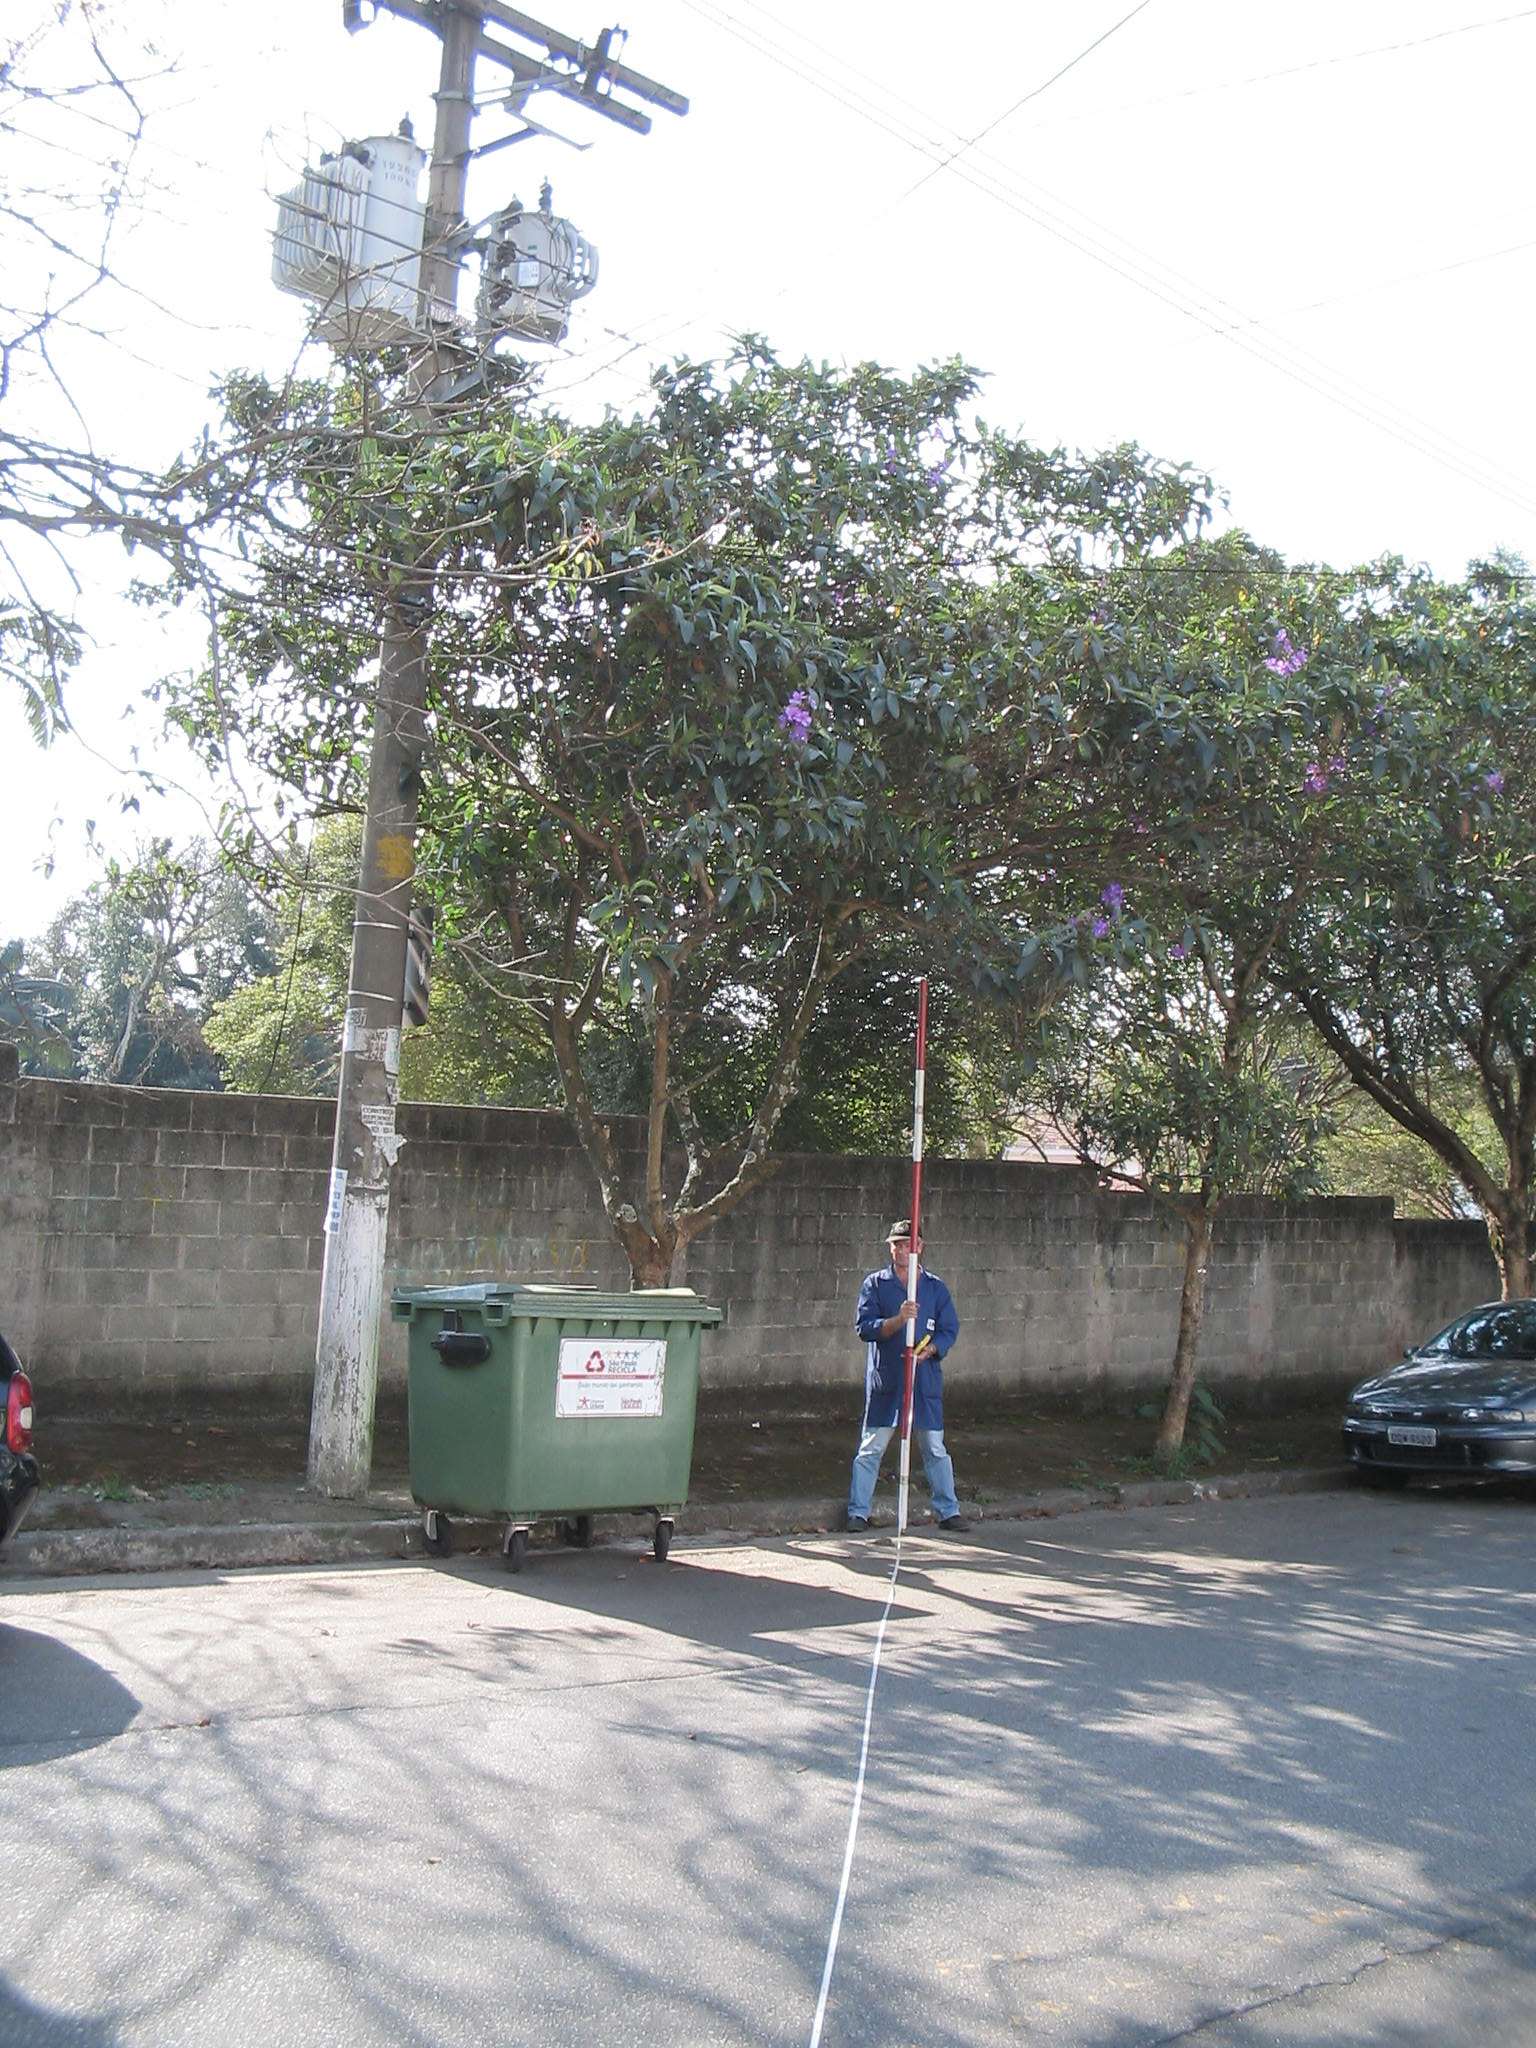crown: (145, 326, 1183, 1032), (908, 547, 1483, 1016), (1242, 563, 1526, 1079)
stem: (1155, 1232, 1233, 1455)
stick: (883, 979, 949, 1545)
tree: (137, 324, 1187, 1461), (900, 540, 1489, 1461), (1238, 561, 1533, 1466)
